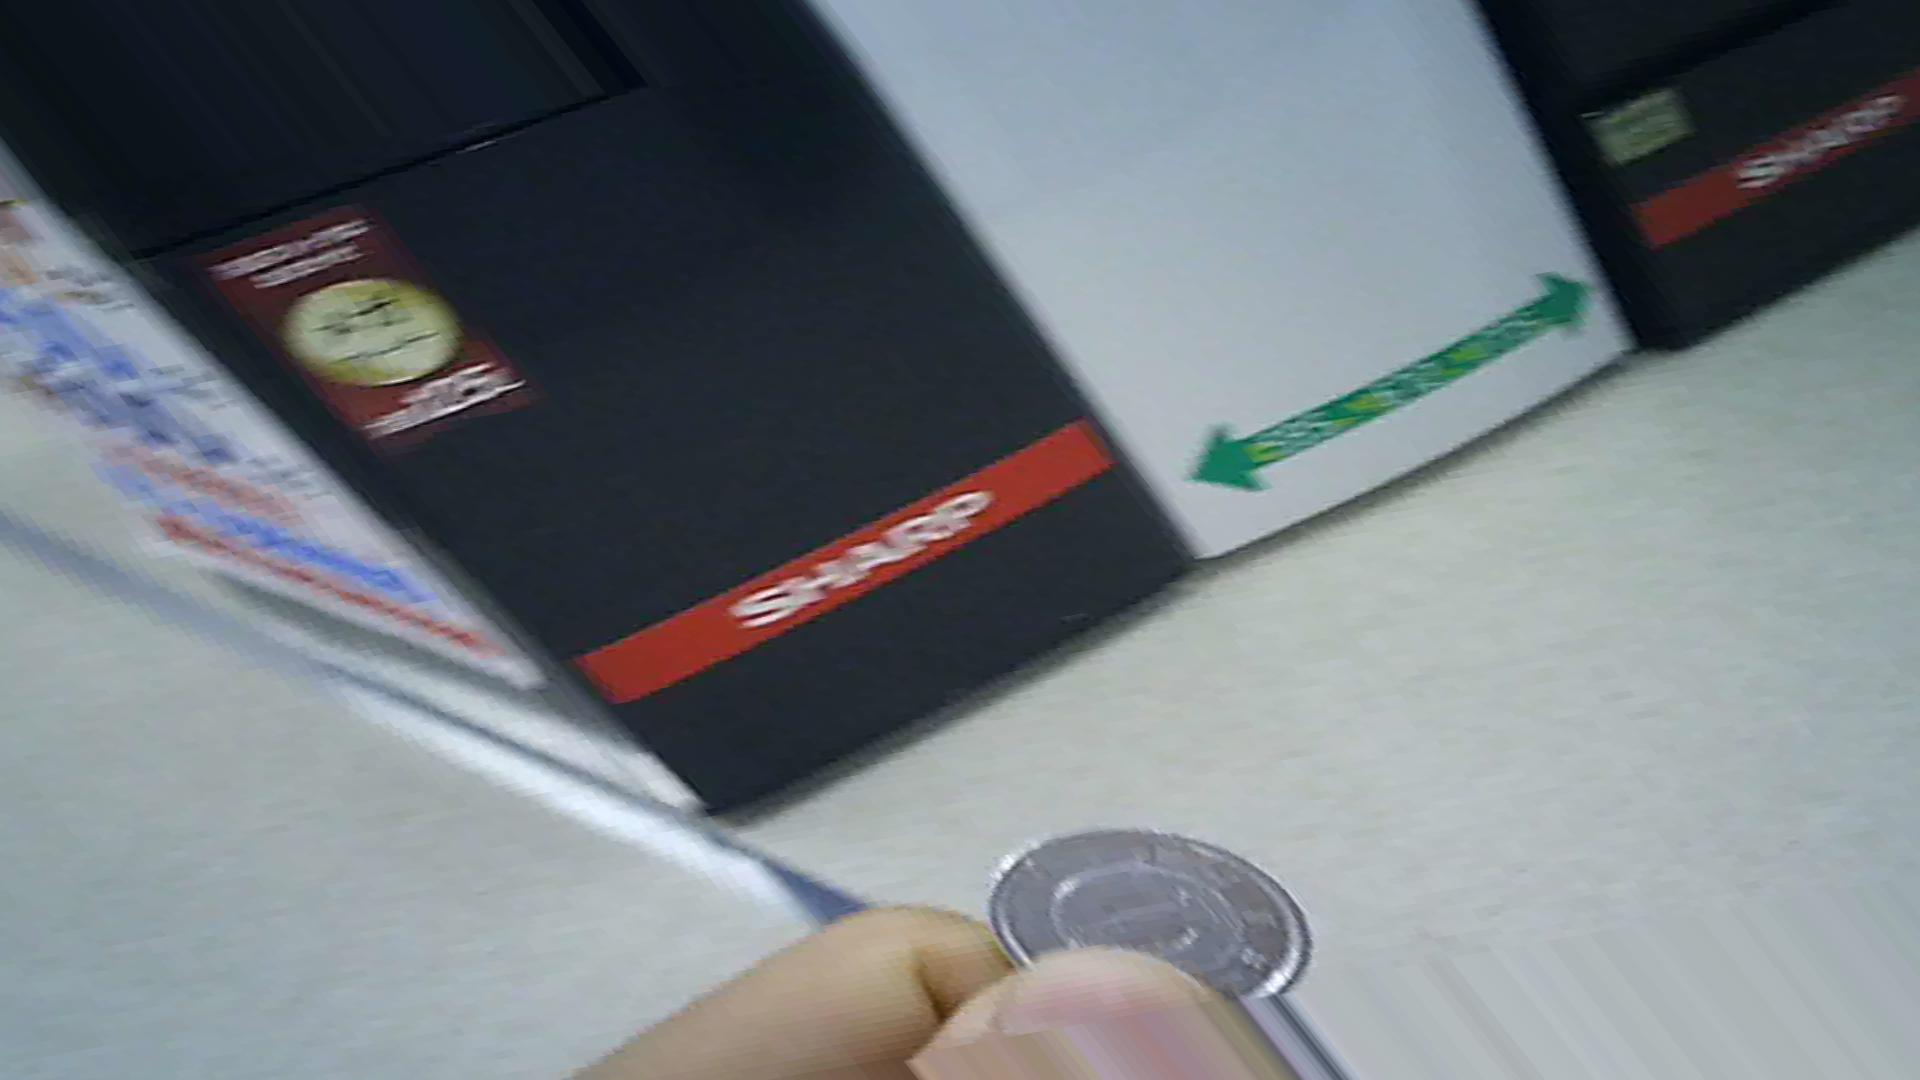1 Yen: (994, 833, 1333, 1023)
